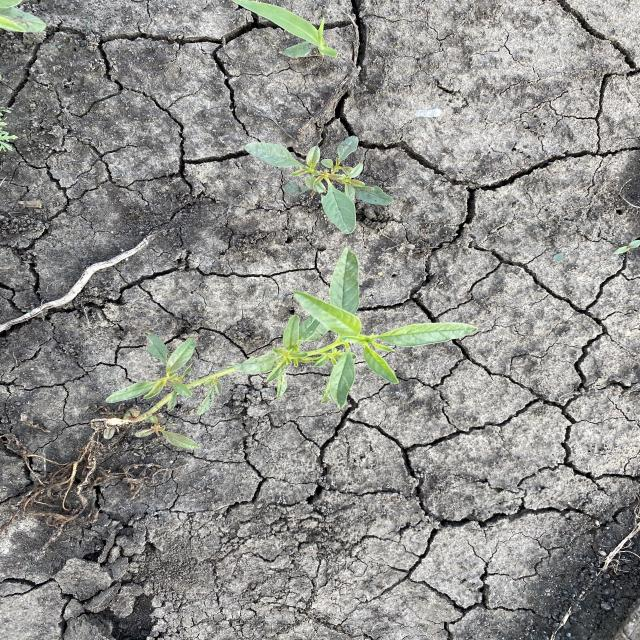Waterhemp: (100, 247, 482, 453), (240, 133, 396, 237)
